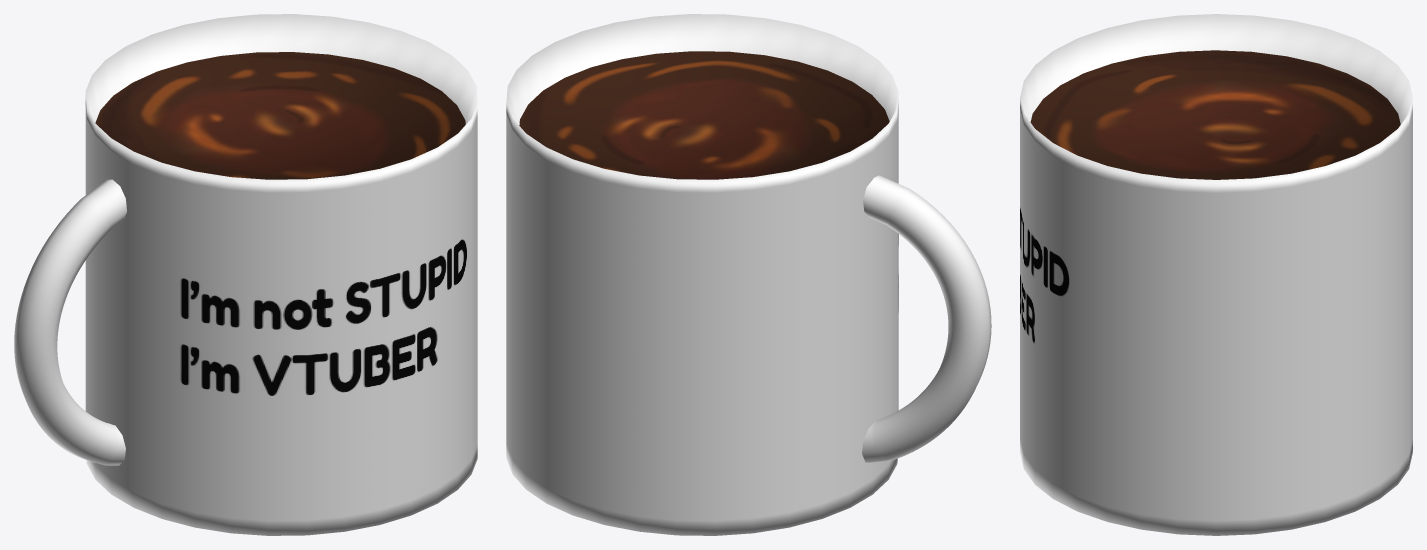
Rendered from coffe_cup_vtuber.glb.
3 renders of one model, left to right at view 1: azimuth 30°, elevation 25°; view 2: azimuth 150°, elevation 25°; view 3: azimuth 270°, elevation 25°, orthographic.
Visible parts, largest first — view 1: Cilindro; view 2: Cilindro; view 3: Cilindro.
Part boxes in pixels (x1=…): Cilindro: x1=14, y1=14, x2=477, y2=535; Cilindro: x1=506, y1=14, x2=991, y2=535; Cilindro: x1=1020, y1=14, x2=1412, y2=535.
Size of the model in its own units: 2.62 by 2 by 2.
2 materials, 2 textured.
